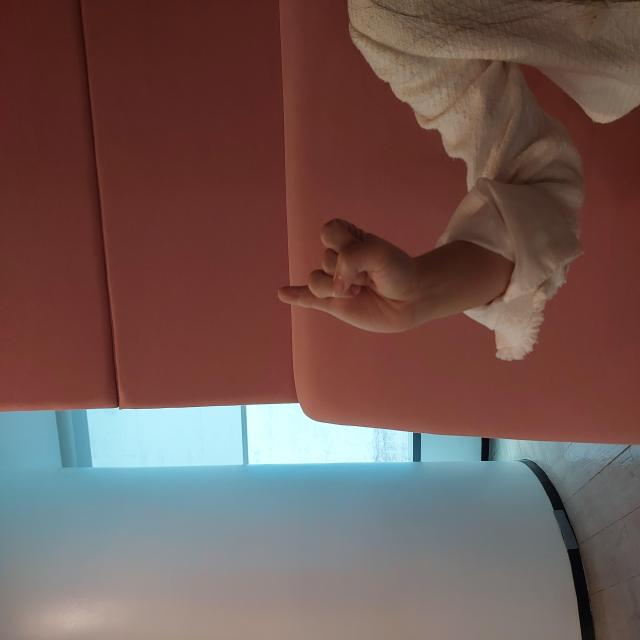I: (308, 276, 421, 411)
